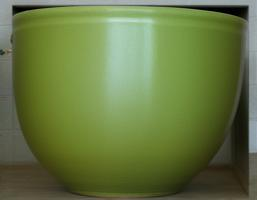pottedplant: (12, 5, 248, 197)
